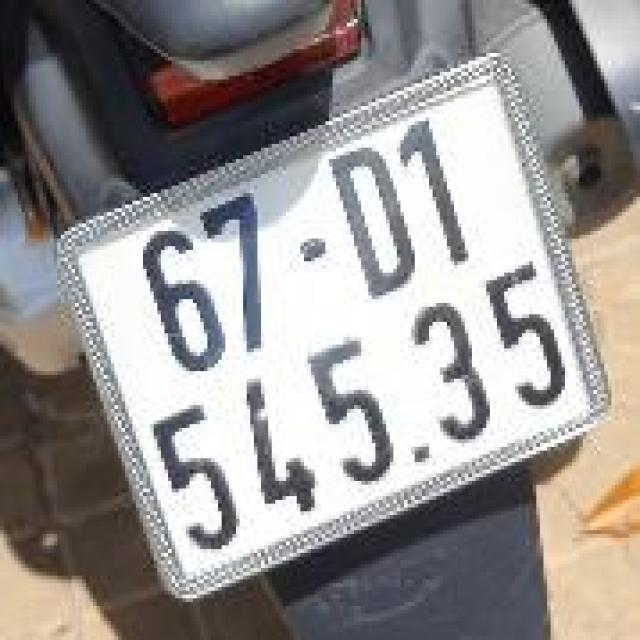1: (384, 103, 491, 289)
3: (396, 285, 511, 447)
4: (224, 361, 334, 532)
5: (140, 384, 261, 570), (293, 323, 414, 501), (472, 245, 588, 427)
6: (126, 211, 240, 390)
7: (190, 182, 305, 368)
D: (316, 128, 431, 319)
